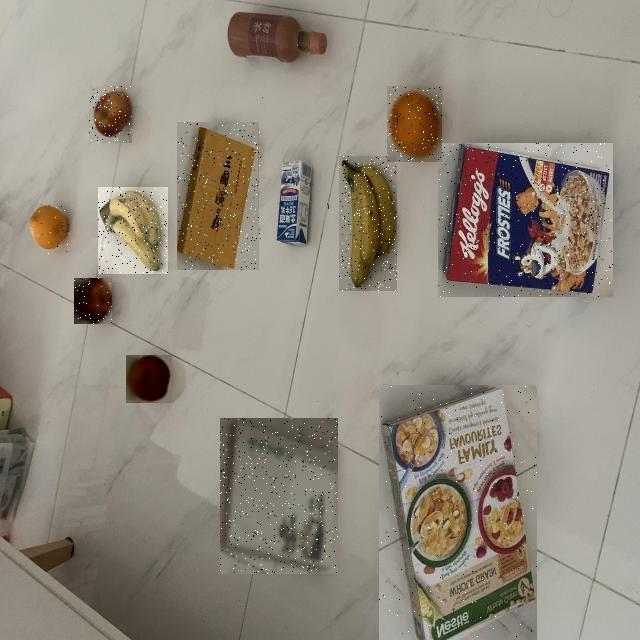Apple: (89, 86, 132, 143), (126, 355, 172, 403), (75, 278, 113, 324)
Banana: (339, 156, 397, 291), (99, 187, 169, 274)
Book: (220, 419, 338, 575), (178, 122, 262, 270)
Cereal: (379, 385, 537, 640), (438, 143, 613, 297)
Orange: (387, 86, 442, 162), (28, 204, 70, 254)
